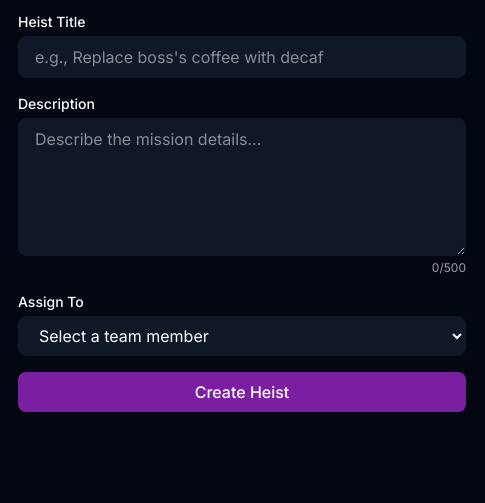
Test: CreateHeistForm › shows validation error for title too short
In the field labelled "Heist Title": [242, 57] box [18, 36, 466, 78], type "ab"
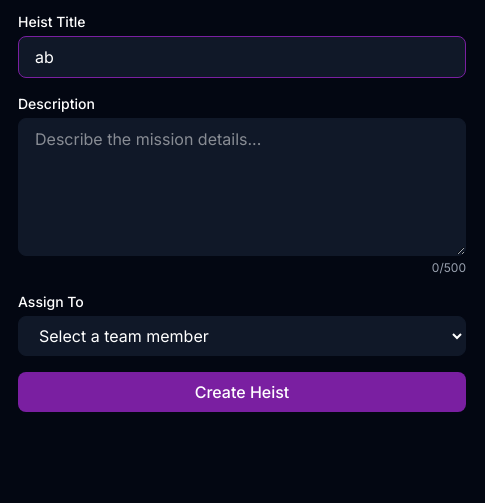
Click the button "Create Heist": [242, 392] box [18, 372, 466, 412]
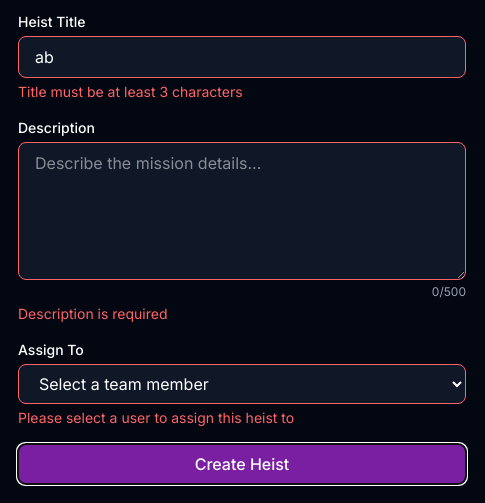
Result: the text "Title must be at least 3 characters" is shown at [18, 83, 243, 100]
